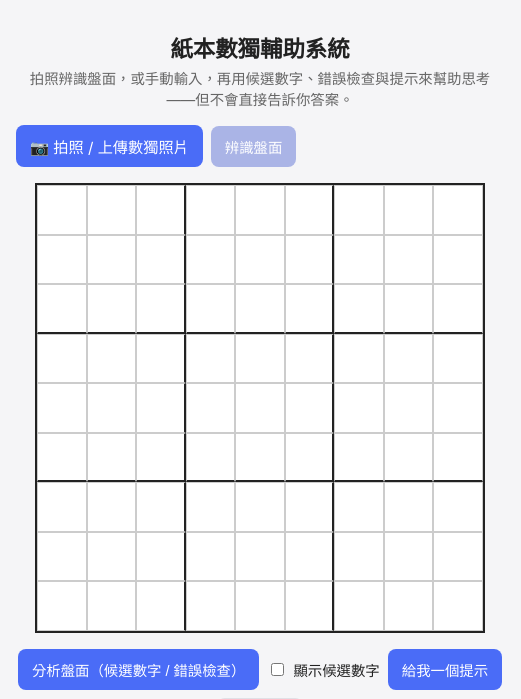
Test: App › shows a fallback message when there is no hint and the board is not complete
The image size is (521, 699).
Click the button "分析盤面（候選數字 / 錯誤檢查）" at (139, 670), box [18,649,259,690]
(page scrolled)
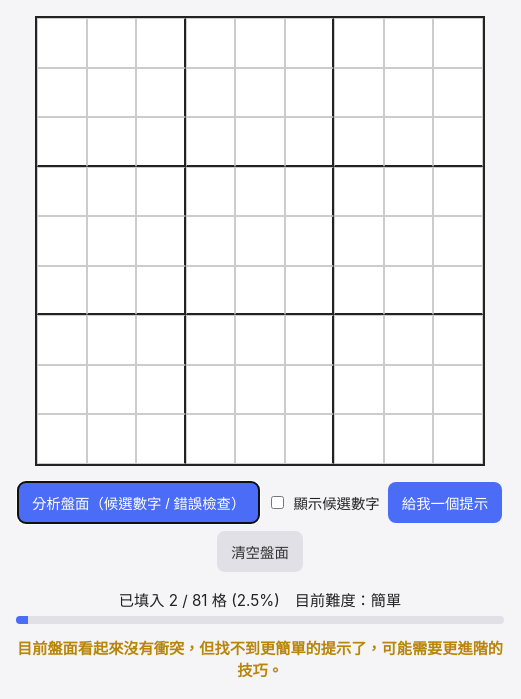
Now the text "目前盤面看起來沒有衝突，但找不到更簡單的提示了，可能需要更進階的技巧。" is shown, box [16,636,504,680]
